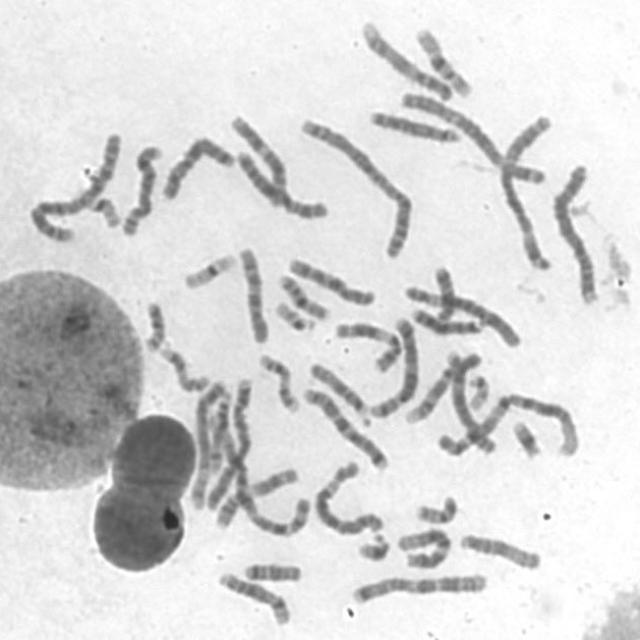A1: (202, 390, 312, 539), (431, 387, 584, 460)
A2: (293, 111, 414, 261), (23, 124, 124, 245)
A3: (393, 84, 549, 185), (492, 107, 556, 273)
B4: (546, 157, 602, 307), (200, 371, 256, 513)
B5: (184, 374, 232, 512), (362, 311, 421, 421)
C10: (282, 250, 377, 308), (232, 238, 272, 344)
C11: (208, 461, 302, 531), (329, 315, 404, 374)
C12: (225, 107, 290, 207), (390, 520, 452, 570)
C6: (399, 279, 524, 350), (308, 456, 386, 538)
C7: (297, 381, 392, 471), (345, 566, 490, 608)
C8: (440, 344, 500, 456), (115, 138, 166, 238)
C9: (355, 15, 454, 102), (398, 345, 484, 426)
D13: (363, 104, 463, 145), (405, 302, 486, 336)
D14: (211, 566, 292, 628), (207, 388, 234, 475)
D15: (303, 356, 372, 421), (455, 527, 543, 572)
E16: (409, 20, 475, 99), (272, 267, 332, 322)
E17: (252, 347, 302, 415), (152, 338, 212, 394)
E18: (427, 260, 457, 323), (238, 556, 304, 584)
F19: (177, 246, 239, 292), (76, 188, 123, 230)
F20: (410, 489, 460, 525), (137, 294, 167, 354)
G21: (506, 412, 545, 460), (351, 527, 392, 562)
G22: (268, 295, 320, 333), (462, 366, 492, 414)
X: (230, 144, 330, 222), (155, 129, 237, 202)
